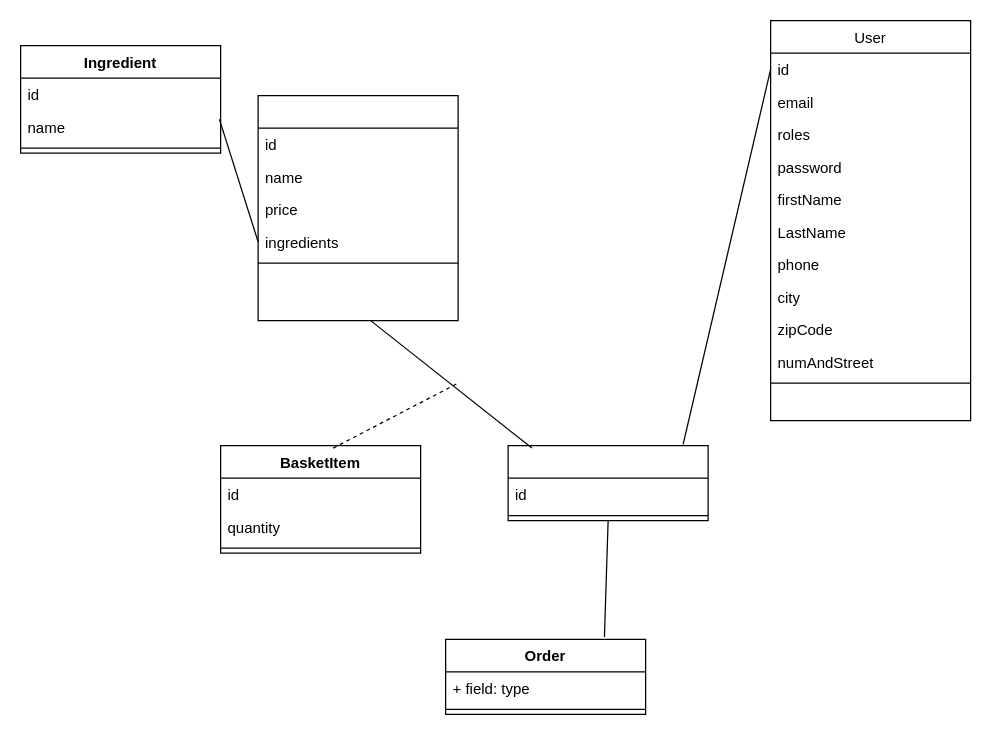
The diagram is 991 pixels wide and 735 high, and some of its shapes have lost their labels. The box of each missing label's shape, as (x1, y1, x2, y2) in pixels:
Basket: (507, 444, 708, 521)
Pizza: (257, 94, 458, 321)
